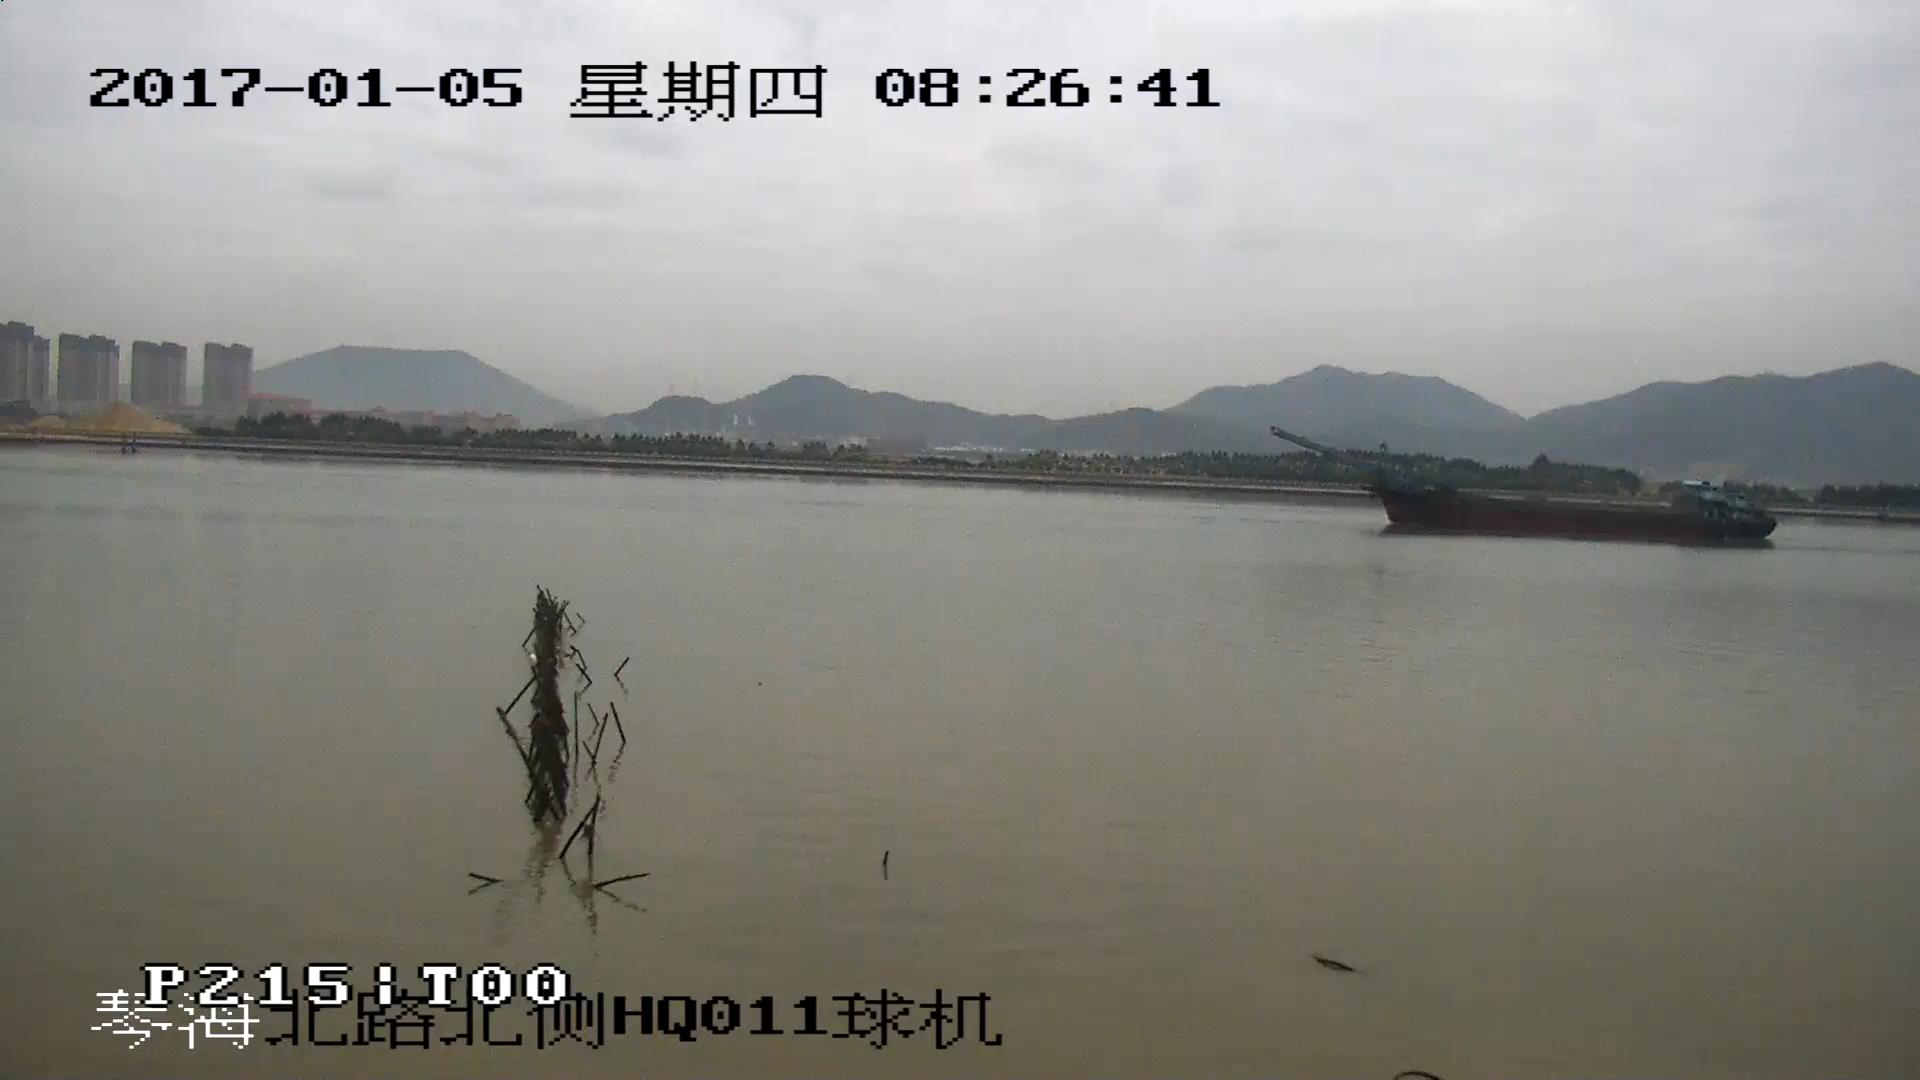bulk cargo carrier: (1273, 430, 1770, 544)
